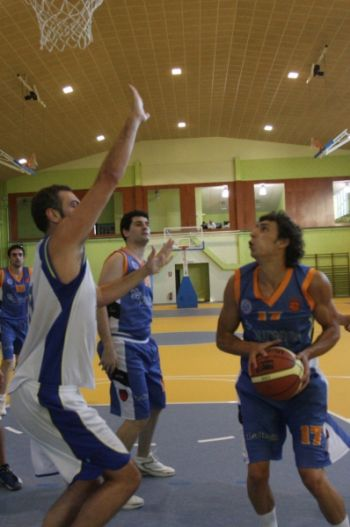basketball: (250, 345, 305, 401)
